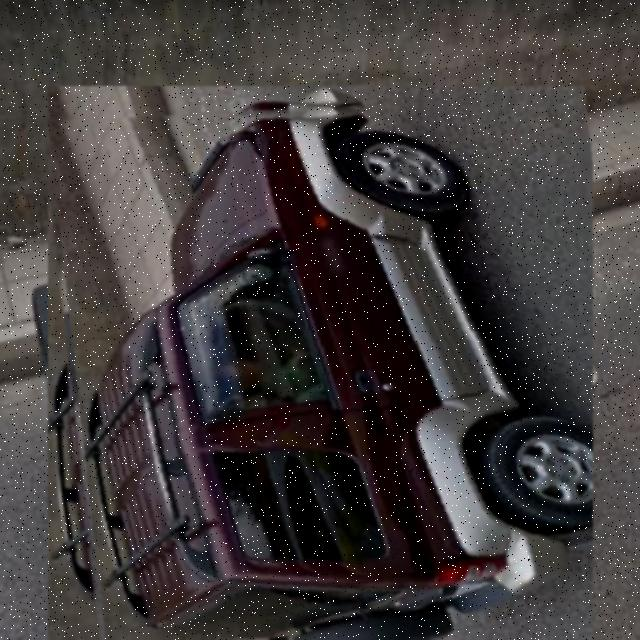car: (43, 94, 594, 640)
